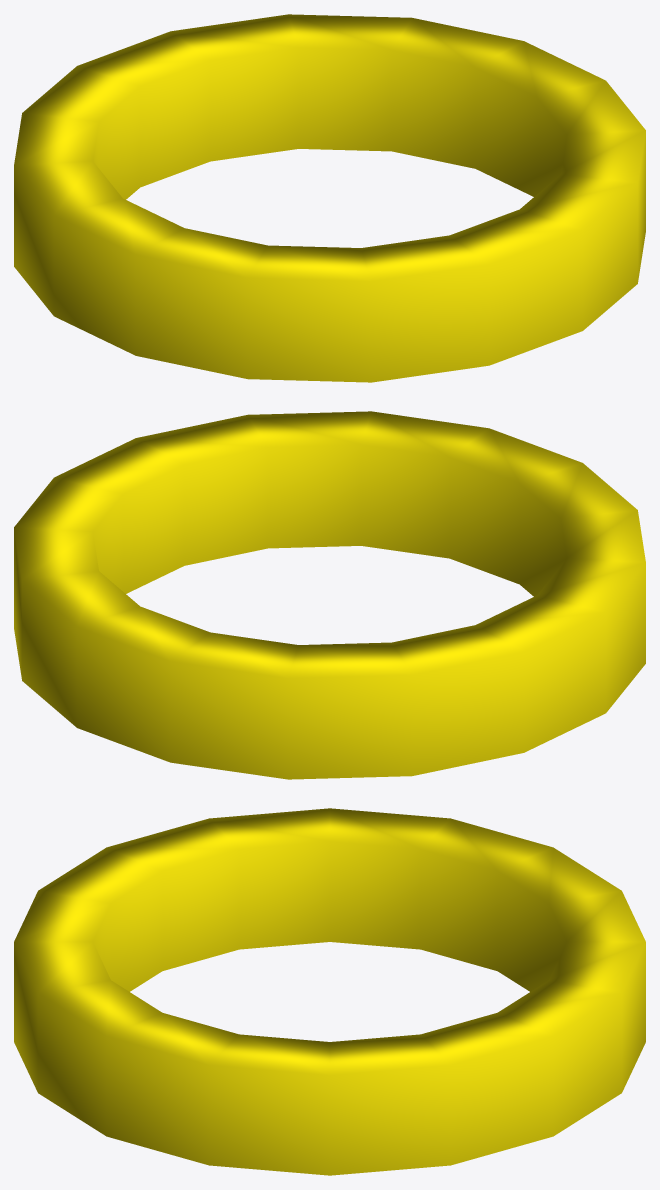
File: oro_ring_gold.glb
3 renders of one model, top to bottom at view 1: azimuth 30°, elevation 25°; view 2: azimuth 150°, elevation 25°; view 3: azimuth 270°, elevation 25°, orthographic.
Visible parts, largest first — view 1: ORO_RING; view 2: ORO_RING; view 3: ORO_RING.
Part boxes in pixels (box(x1,y1,x2,y2)): ORO_RING: box(14, 14, 645, 382); ORO_RING: box(14, 411, 645, 779); ORO_RING: box(14, 808, 645, 1175).
Bounding box in the file's own units: 2 × 0.35 × 2.
